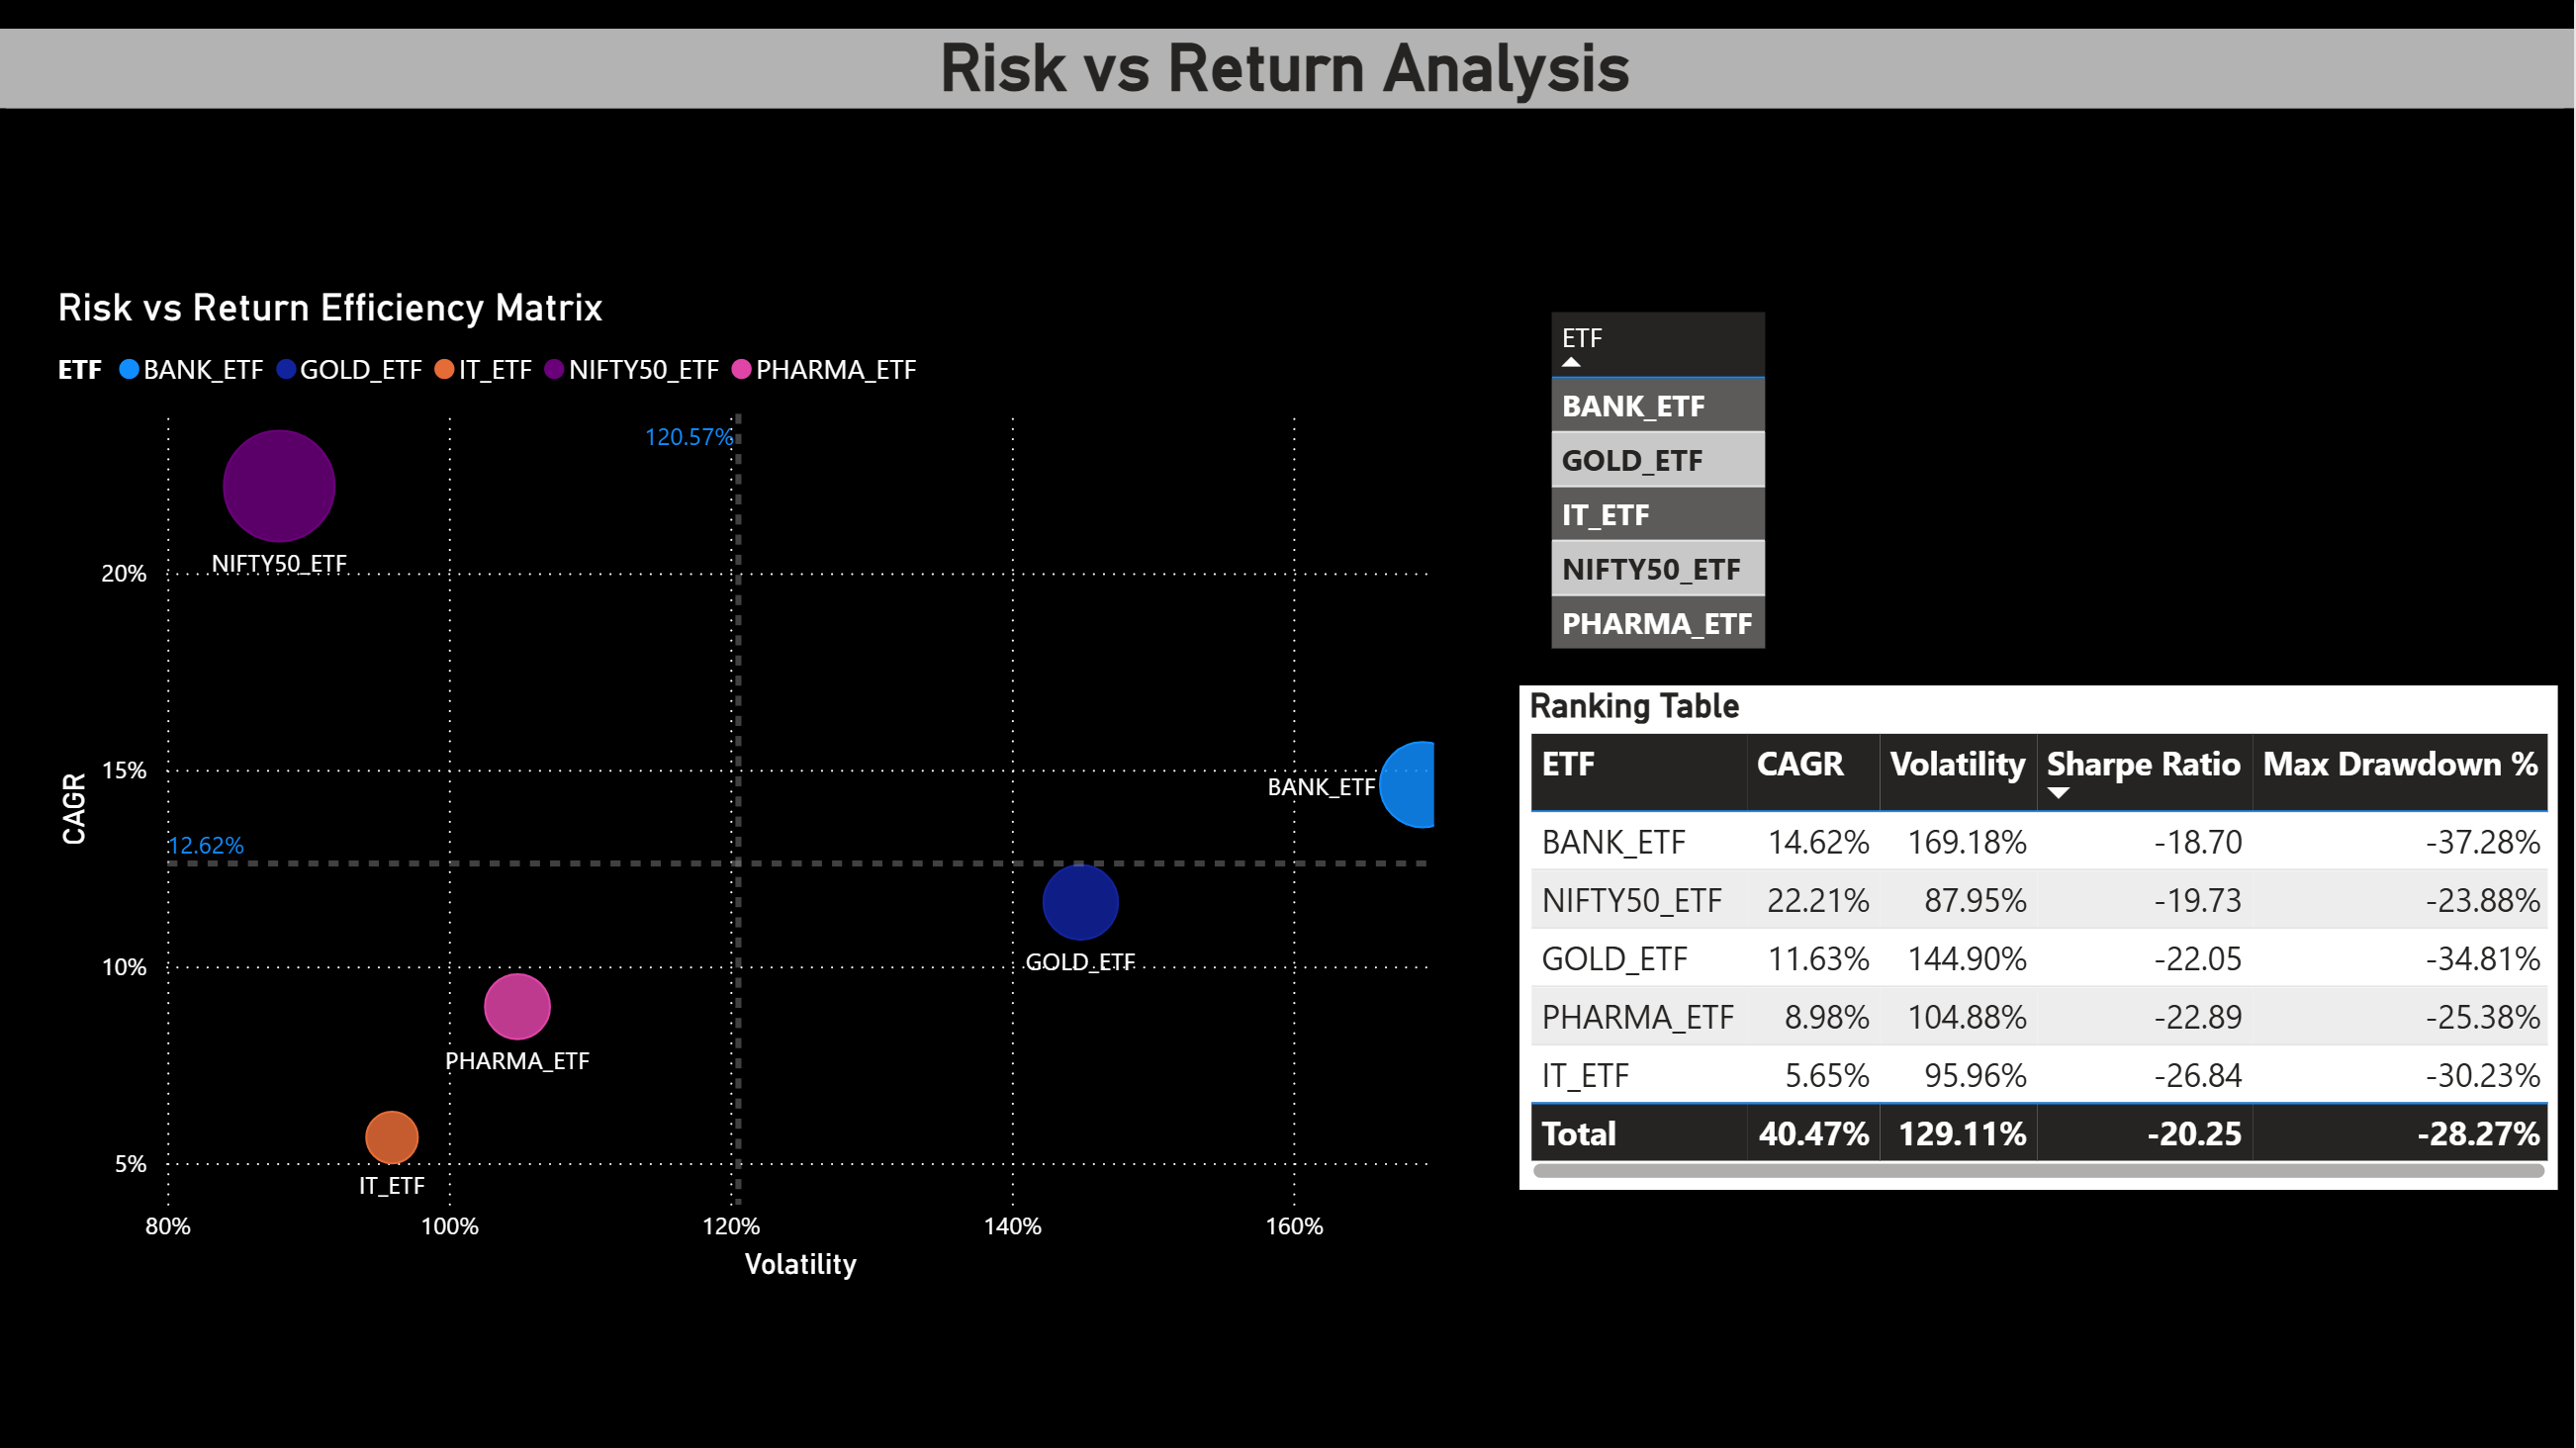

Layout of this report page (visuals, bound fields, positions):
{"tool":"powerbi","page":{"name":"Risk vs Return Analysis","canvas":[1280,720],"ordinal":1},"visuals":[{"type":"scatterChart","title":"Risk vs Return Efficiency Matrix","fields":{"Series":["ETF_Data.ETF"],"X":["ETF_Data.Volatility"],"Y":["ETF_Data.CAGR"],"Size":["ETF_Data.Total Return %"]},"box":[24.2,140.8,710.4,501.4],"z":0},{"type":"tableEx","fields":{"Values":["ETF_Data.ETF"]},"box":[756.6,140.8,155.1,200.1],"z":1000},{"type":"tableEx","title":"Ranking Table","fields":{"Values":["ETF_Data.ETF","ETF_Data.CAGR","ETF_Data.Volatility","ETF_Data.Sharpe Ratio","ETF_Data.Max Drawdown %"]},"box":[756.6,340.9,515.7,250.7],"z":2000},{"type":"textbox","title":"Risk vs Return Analysis","box":[0,14.3,1280,39.6],"z":3000}]}

Visuals, with their boxes in screenshot pixels (x1, y1, x2, y2), scaled from the page's 1280x720 canvas onto the 2576x1448 screenshot:
"Risk vs Return Efficiency Matrix" scatterChart: 48/283/1478/1292
tableEx - ETF_Data.ETF: 1522/283/1835/685
"Ranking Table" tableEx: 1522/685/2560/1190
"Risk vs Return Analysis" textbox: 0/29/2575/109
